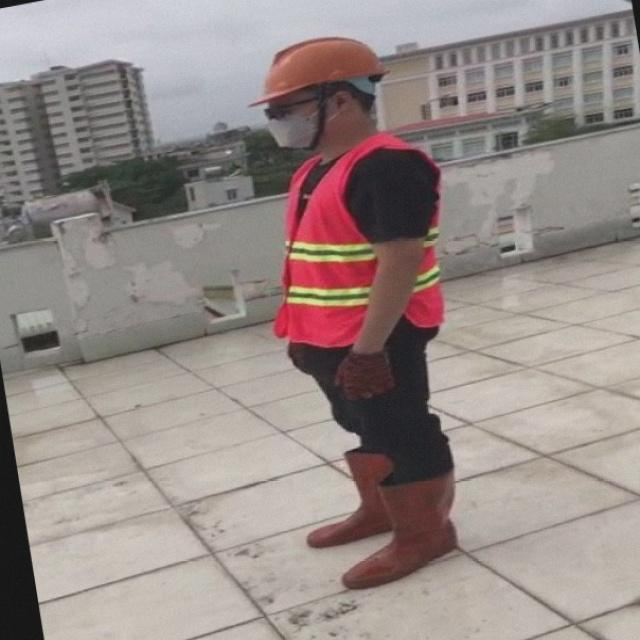helmet: (246, 26, 392, 110)
safety_vest: (272, 132, 444, 353)
